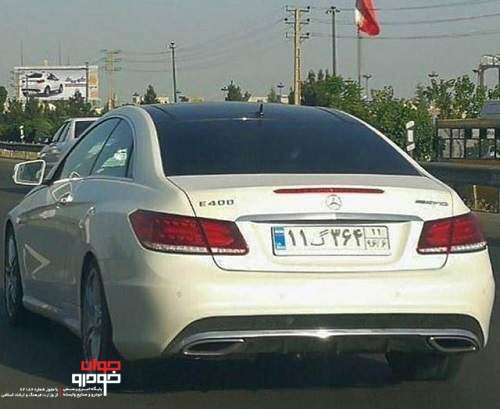car: (267, 226, 391, 255)
